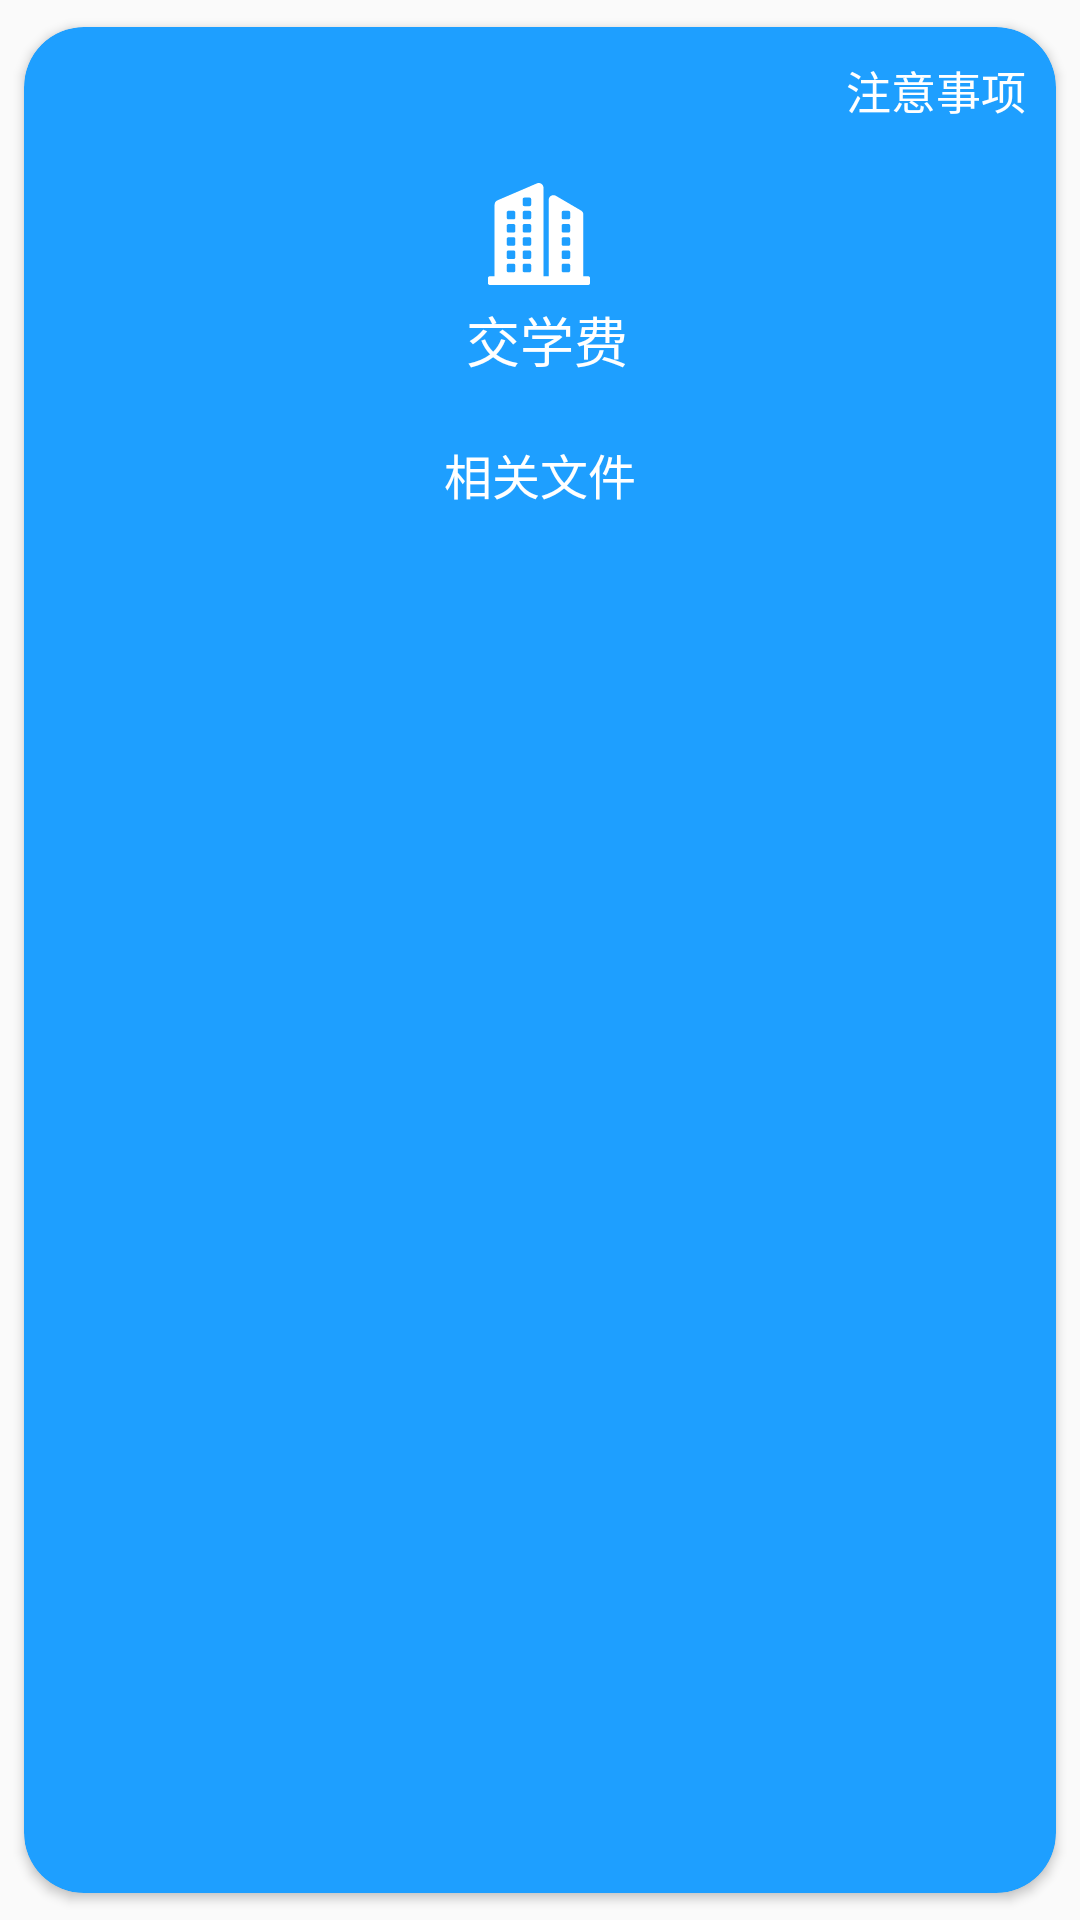

Screen size 1080px×1920px. Icon name, then its center in pixels as [x,y]:
flow jiaoshi: [539,234]
